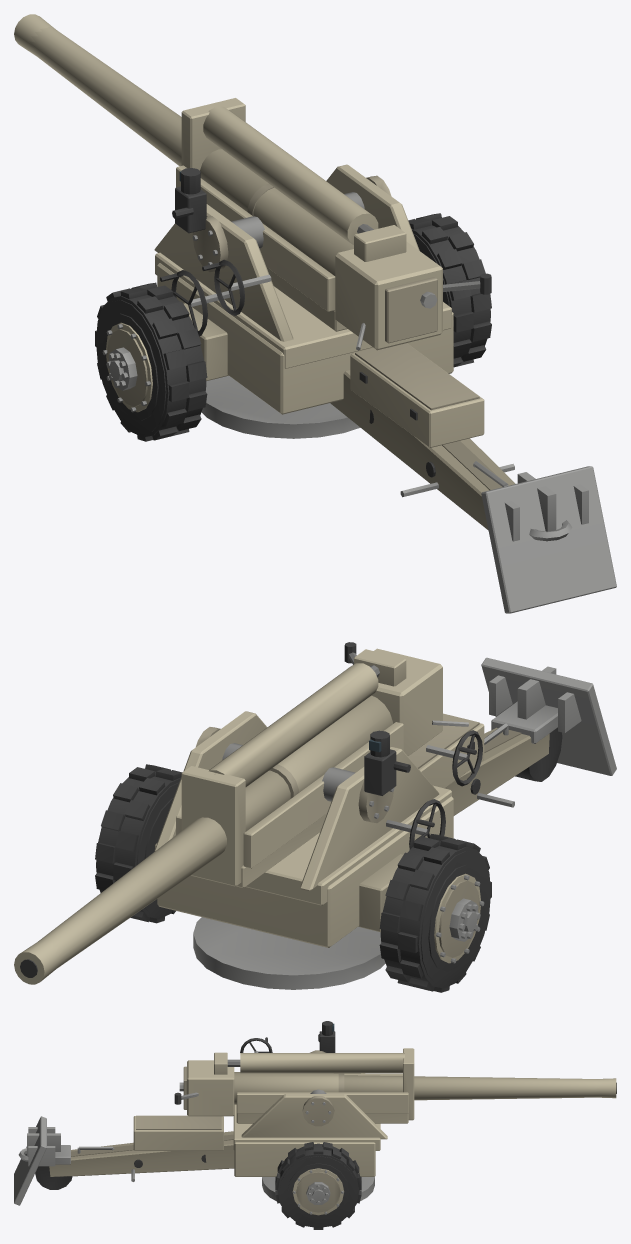
Rendered from usa_tow_m102.glb.
3 renders of one model, top to bottom at view 1: azimuth 30°, elevation 25°; view 2: azimuth 150°, elevation 25°; view 3: azimuth 270°, elevation 25°, orthographic. The views are drawn at different scales.
Parts seen in each view (by area): view 1: body, barrel, turret, wheel_0, wheel_1; view 2: barrel, body, turret, wheel_0, wheel_1; view 3: barrel, body, turret, wheel_1.
Part boxes in pixels (left/top/right/bottom): body: left=157, top=263, right=616, bottom=613; barrel: left=14, top=14, right=491, bottom=350; turret: left=154, top=164, right=451, bottom=368; wheel_0: left=95, top=282, right=207, bottom=441; wheel_1: left=408, top=213, right=491, bottom=367; barrel: left=14, top=642, right=468, bottom=984; body: left=157, top=657, right=616, bottom=989; turret: left=154, top=711, right=482, bottom=905; wheel_0: left=379, top=834, right=491, bottom=992; wheel_1: left=95, top=764, right=181, bottom=923; barrel: left=174, top=1048, right=616, bottom=1123; body: left=14, top=1115, right=375, bottom=1205; turret: left=233, top=1021, right=387, bottom=1150; wheel_1: left=275, top=1142, right=361, bottom=1229.
Size of the model in its own units: 2.06 by 1.38 by 5.34.
